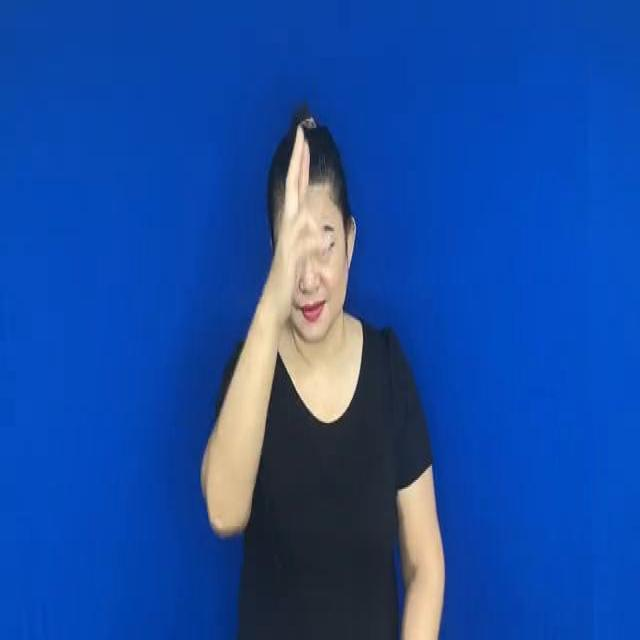chicken: (273, 118, 330, 297)
